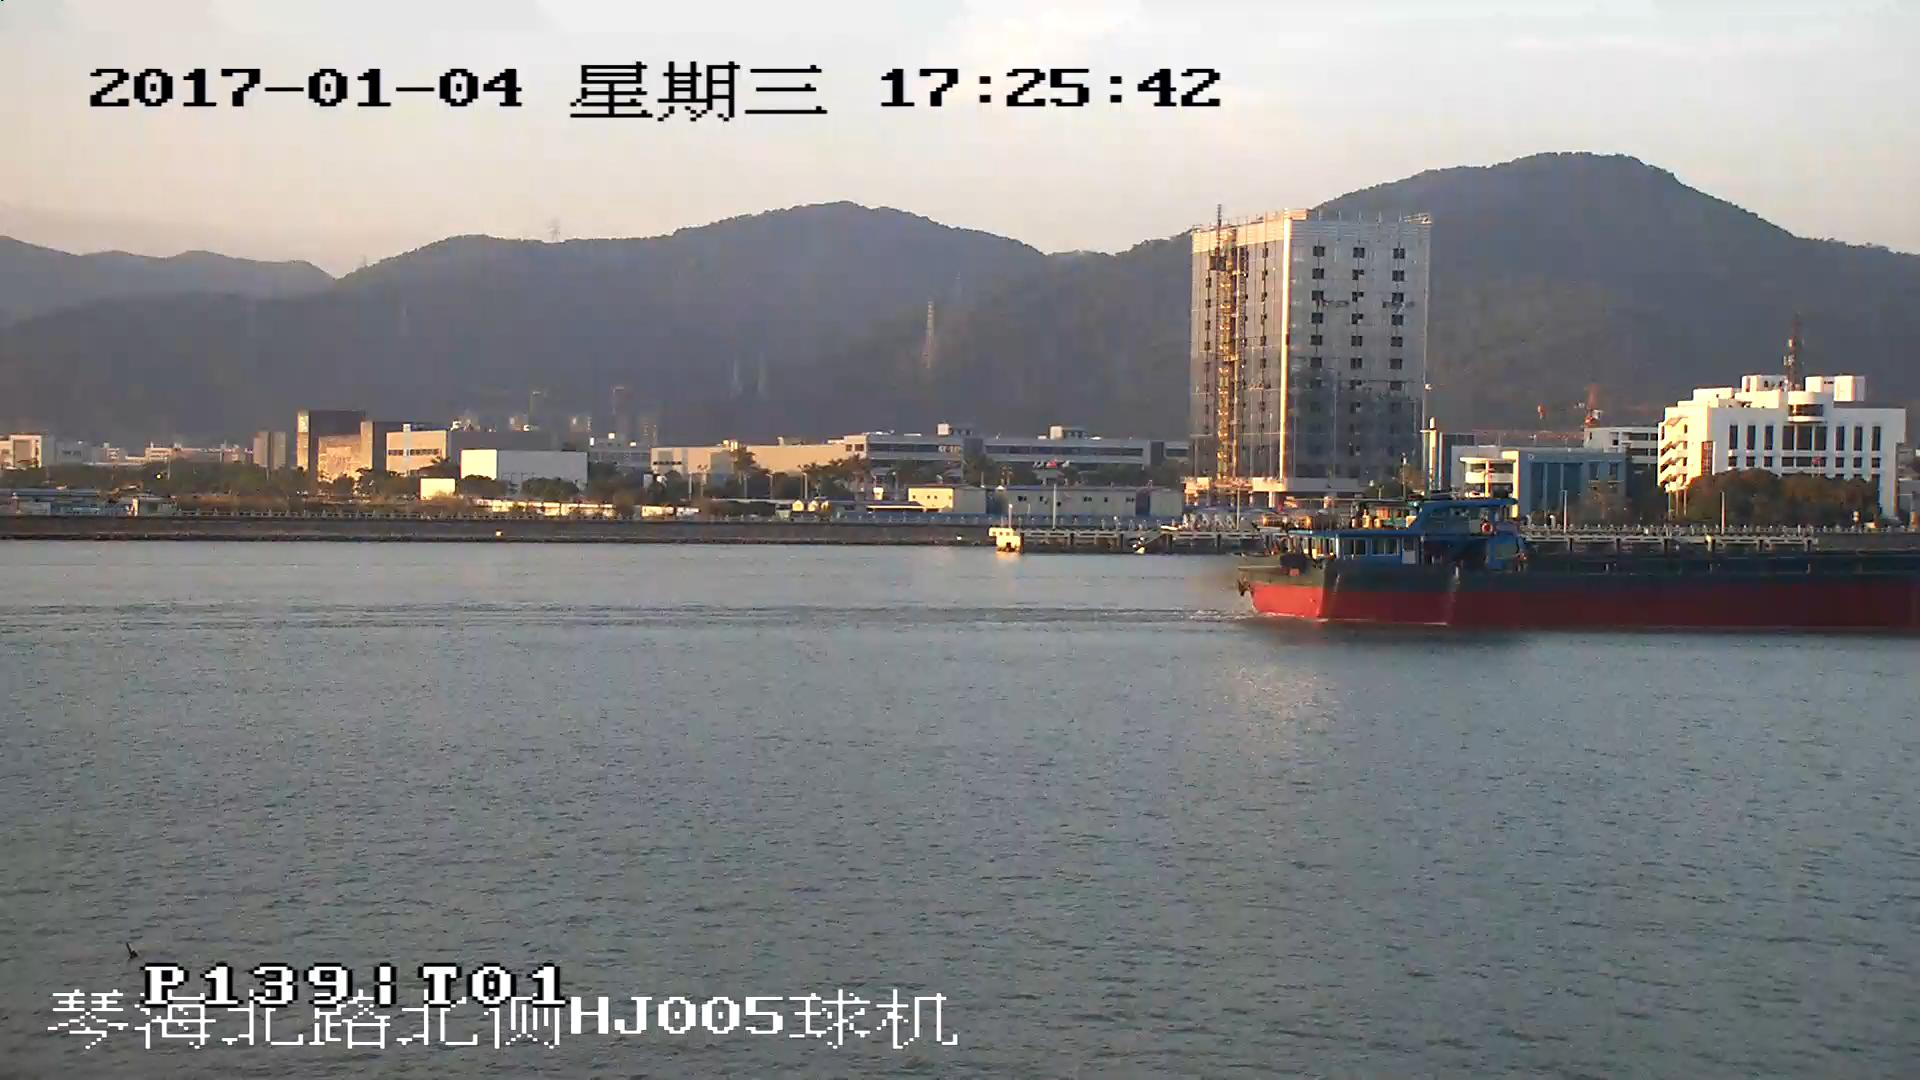general cargo ship: (1240, 495, 1920, 631)
